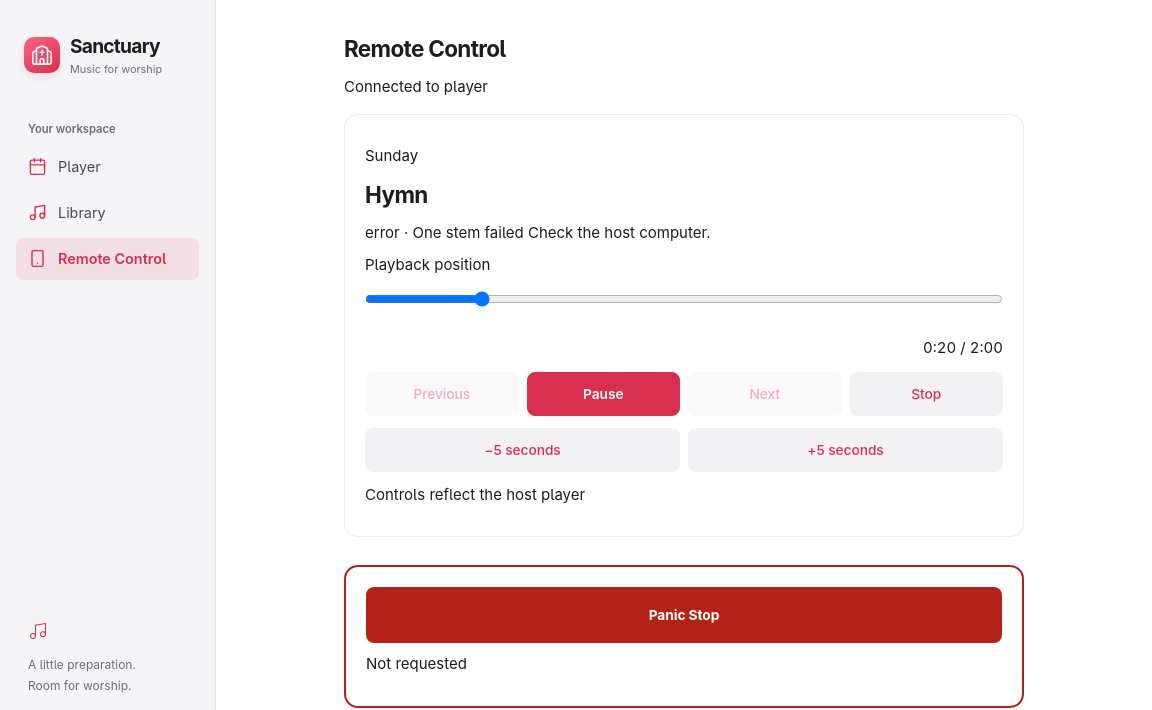
Test case: Remote Control mode › uses host state, explicit mix commands and disconnected panic gating
Click the button "Pause". click: {"x": 603, "y": 394}
box: top-left (526, 372), bottom-right (680, 416)
(page scrolled)
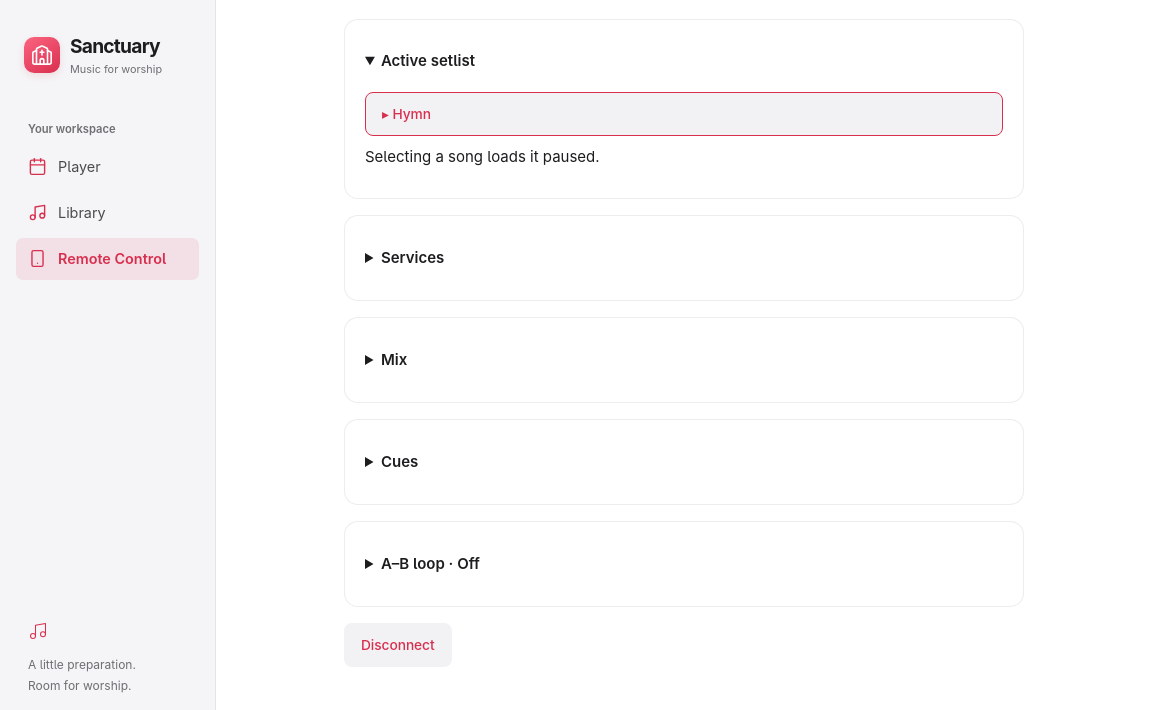
Set the slider named "master" to "0.4". click: {"x": 684, "y": 360}
box: top-left (344, 317), bottom-right (1024, 403)
(page scrolled)
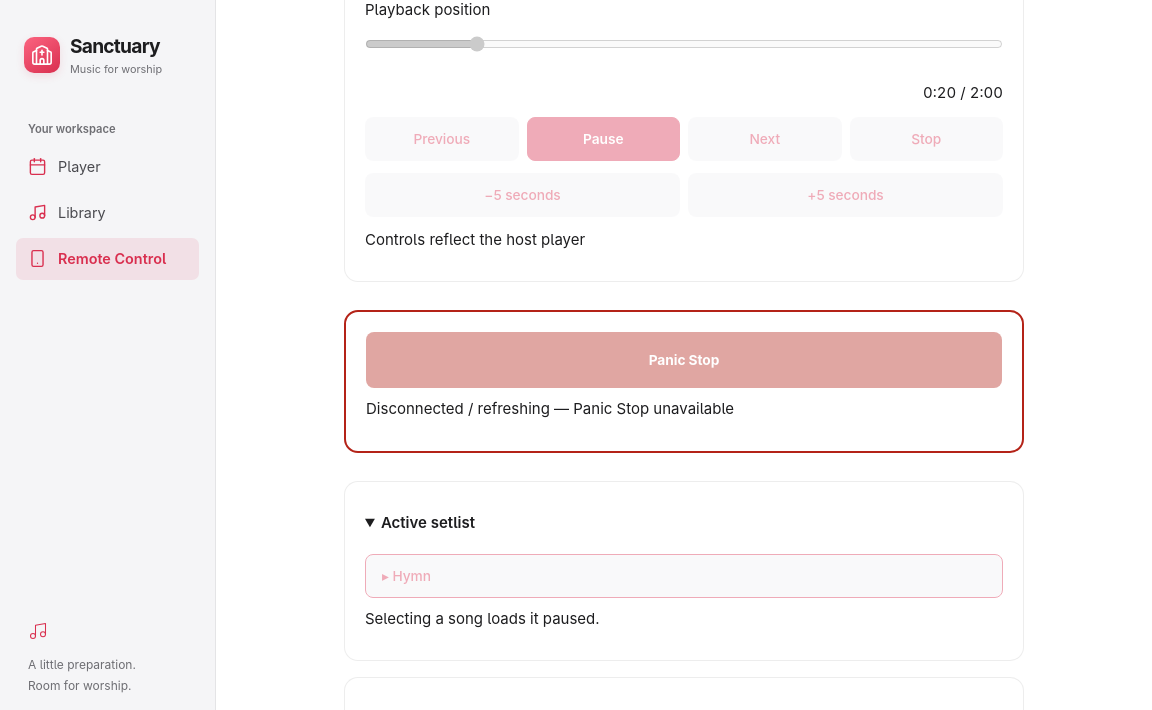
Expected: the button "Panic Stop" is disabled, top-left (366, 332), bottom-right (1002, 388)
Expected: the text "Panic Stop unavailable" is shown, top-left (366, 399), bottom-right (734, 418)
